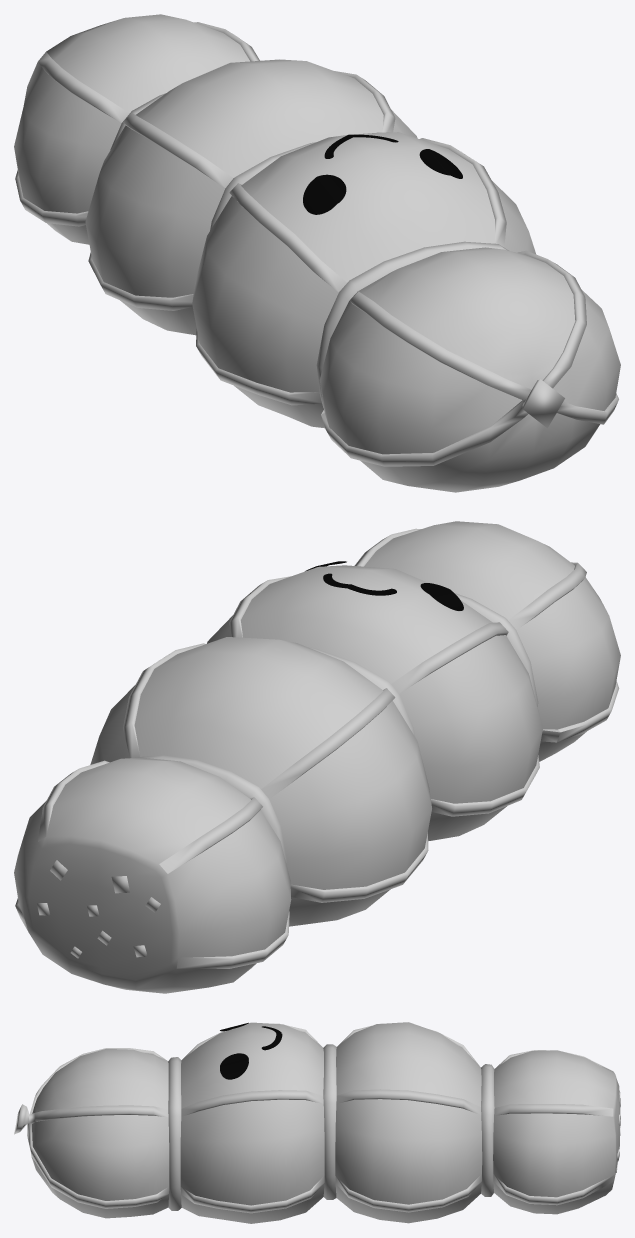
File: wavy_sausage_smile.fbx
3 views of the same model, one above another, from view 1: azimuth 30°, elevation 25°; view 2: azimuth 150°, elevation 25°; view 3: azimuth 270°, elevation 25° (orthographic). The views are drawn at different scales.
Parts seen in each view (by area): view 1: wavy_sausage_smile; view 2: wavy_sausage_smile; view 3: wavy_sausage_smile.
Part boxes in pixels (<box>): wavy_sausage_smile: <box>14,14,620,492</box>; wavy_sausage_smile: <box>14,521,620,993</box>; wavy_sausage_smile: <box>14,1022,620,1223</box>.
Size of the model in its own units: 65.74 by 49.27 by 160.
2 materials, 1 textured.
